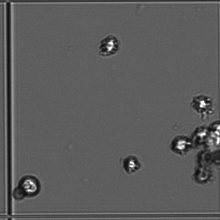Dead Cell: (193, 166, 212, 185), (196, 149, 215, 165), (11, 188, 24, 200)
Living Cell: (17, 173, 42, 198), (96, 34, 120, 57), (169, 134, 192, 154), (191, 93, 212, 114), (121, 154, 142, 174), (191, 125, 209, 142)
